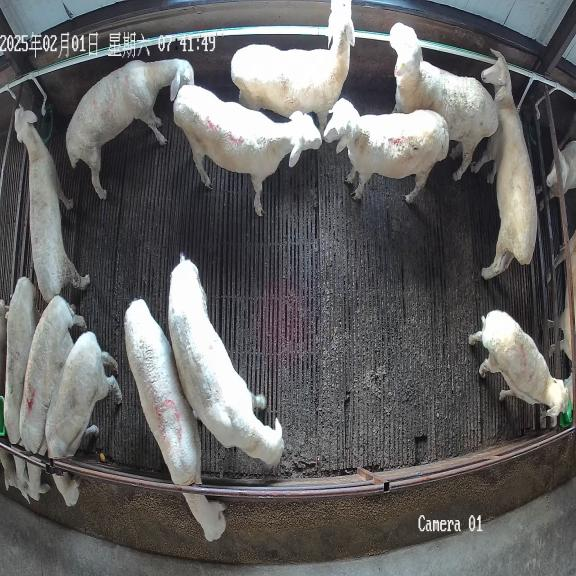eating: (124, 299, 227, 542), (45, 331, 122, 506), (19, 295, 84, 500), (4, 277, 40, 497)
stand: (169, 254, 284, 468), (173, 85, 321, 216), (66, 59, 194, 199), (389, 22, 498, 180), (231, 0, 355, 131), (471, 50, 537, 279), (15, 106, 89, 303), (324, 98, 449, 202), (469, 310, 571, 418)
